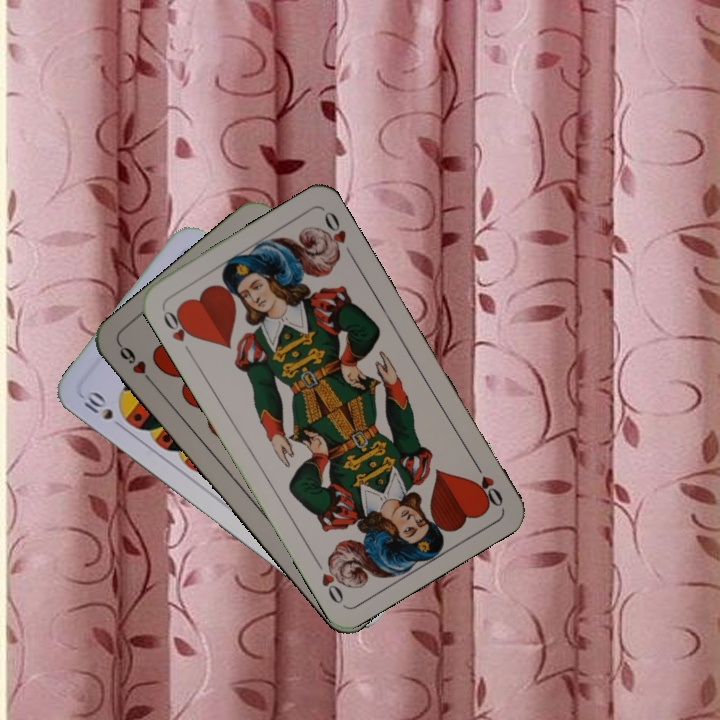H9: (115, 340, 159, 389)
HO: (158, 304, 197, 358), (468, 456, 506, 510)
S10: (79, 387, 116, 423)
